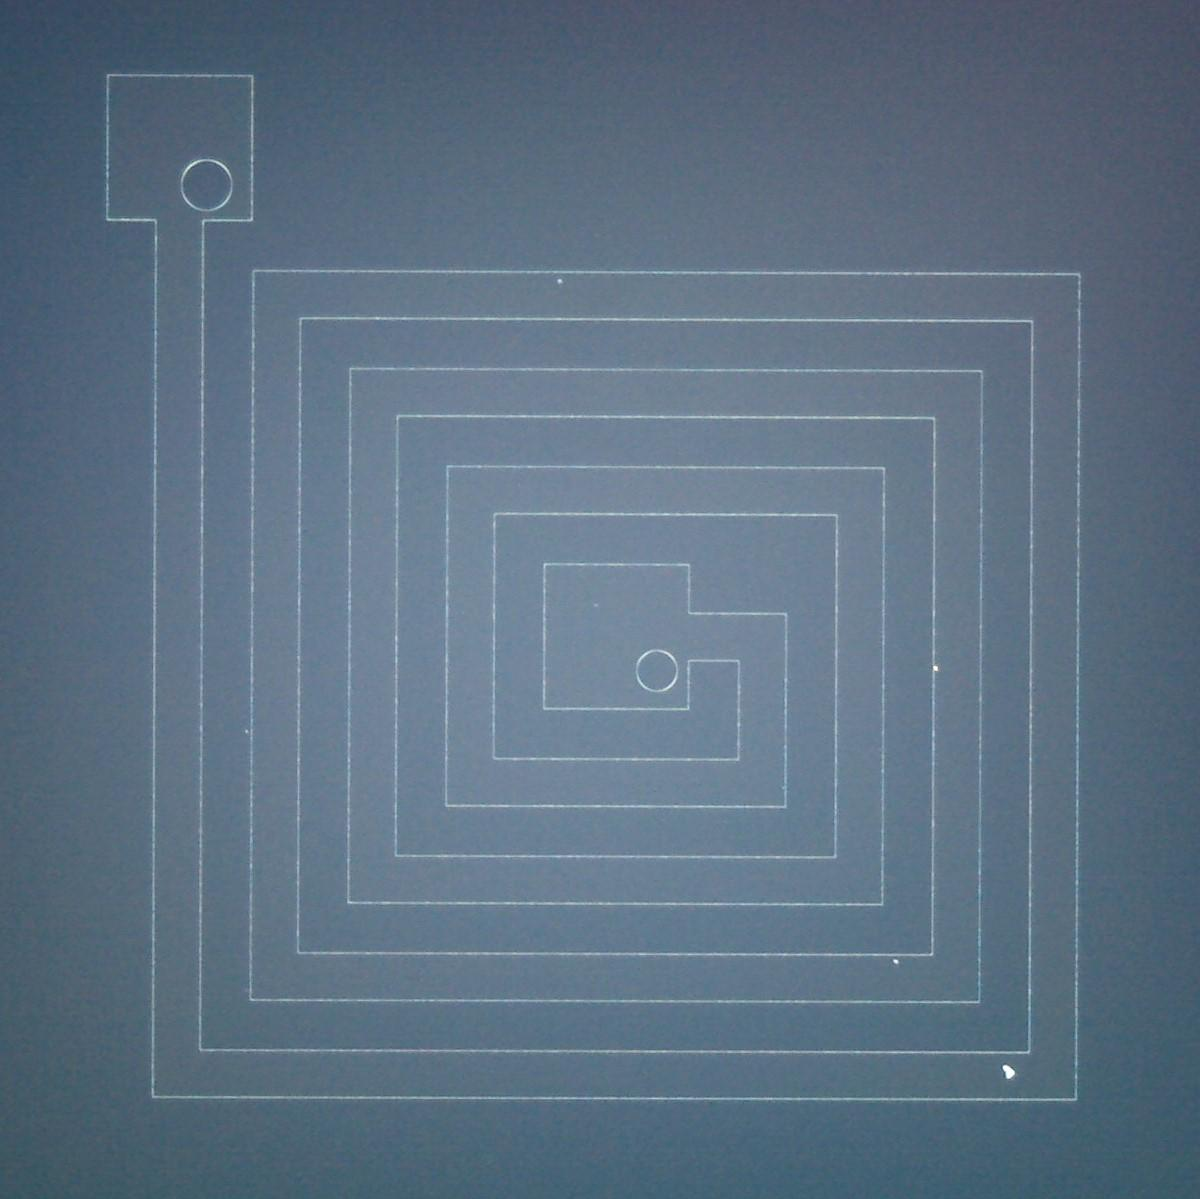B_point: (996, 1058, 1021, 1086)
circle: (180, 158, 234, 212), (633, 648, 681, 694)
s_point: (886, 952, 906, 972), (551, 271, 570, 291), (926, 660, 945, 676), (238, 725, 255, 739), (588, 597, 604, 612)
